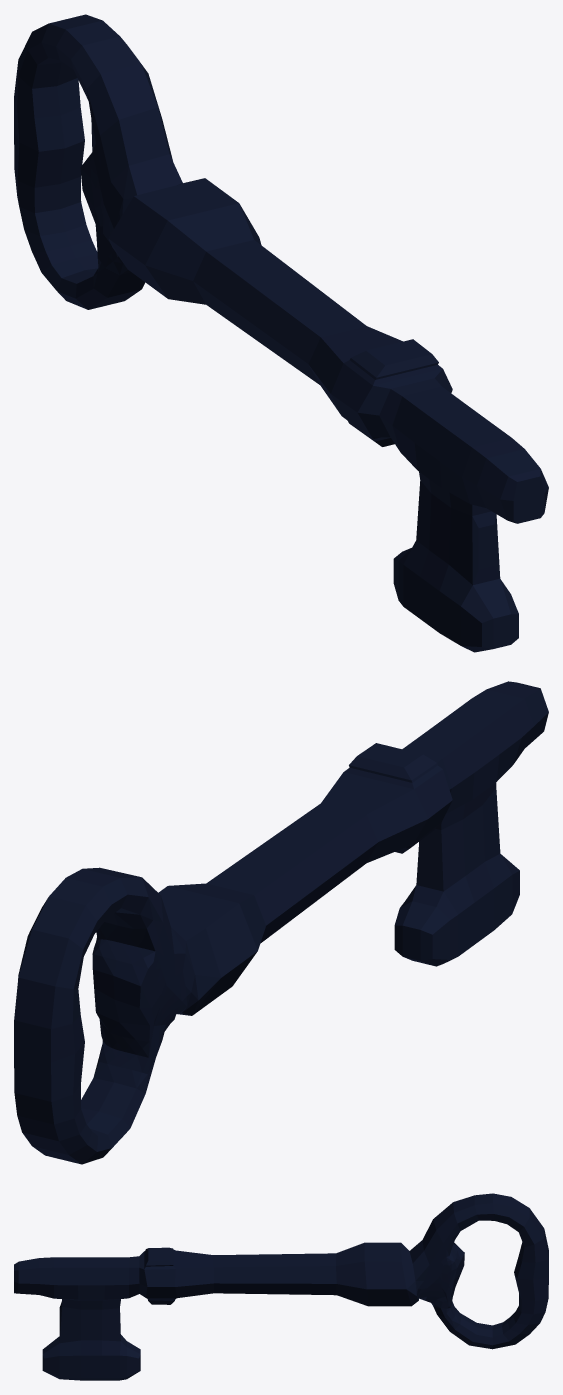
File: chaveporta2.fbx
The picture shows the model from 3 angles, top to bottom: view 1: azimuth 30°, elevation 25°; view 2: azimuth 150°, elevation 25°; view 3: azimuth 270°, elevation 25°; orthographic projection. The views are drawn at different scales.
Visible parts, largest first — view 1: chave2; view 2: chave2; view 3: chave2.
Part boxes in pixels (left/top/right/bottom): chave2: left=14, top=14, right=548, bottom=652; chave2: left=14, top=681, right=548, bottom=1164; chave2: left=14, top=1193, right=548, bottom=1380.
Bounding box in the file's own units: 0.3515 × 0.9746 × 2.64.
